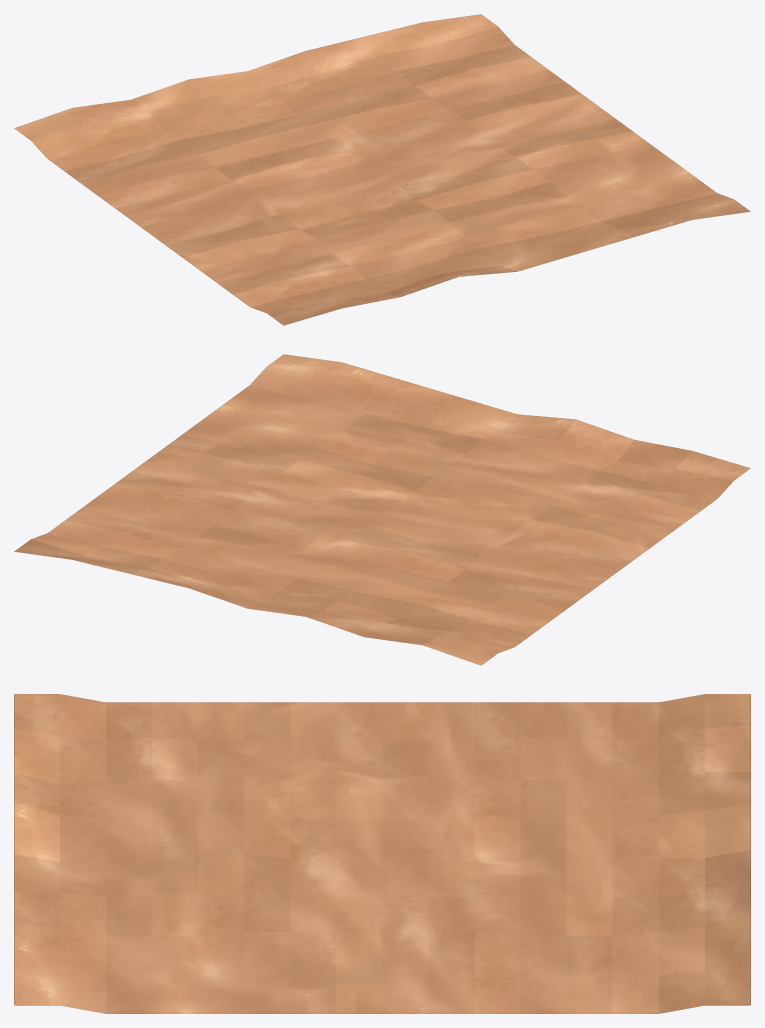
The model's file is DiaHinh.fbx.
The picture shows the model from 3 angles, top to bottom: view 1: azimuth 30°, elevation 25°; view 2: azimuth 150°, elevation 25°; view 3: azimuth 270°, elevation 25°; orthographic projection. The views are drawn at different scales.
Visible parts, largest first — view 1: plane; view 2: plane; view 3: plane.
Boxes of the visible parts, x1,y1,x2,y2 form: plane: [14, 14, 750, 325]; plane: [14, 354, 750, 665]; plane: [14, 694, 750, 1013].
Size of the model in its own units: 1000 by 31.25 by 1000.
1 material, 1 textured.
